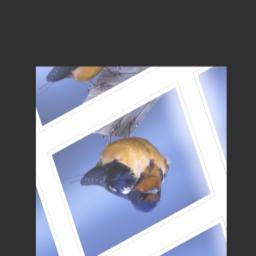Swallow: (56, 102, 182, 249)
